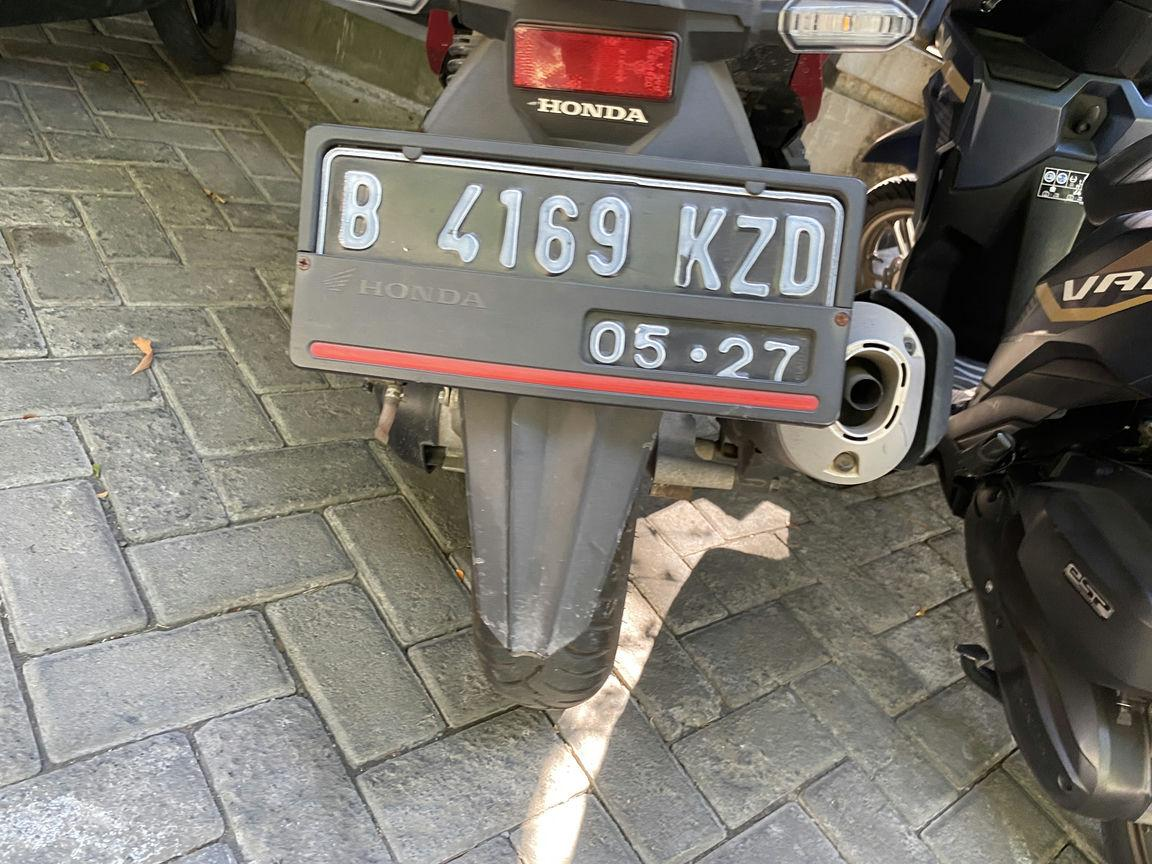plat: (290, 126, 864, 425)
